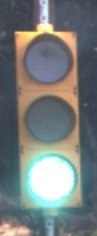Green: (7, 25, 84, 216)
